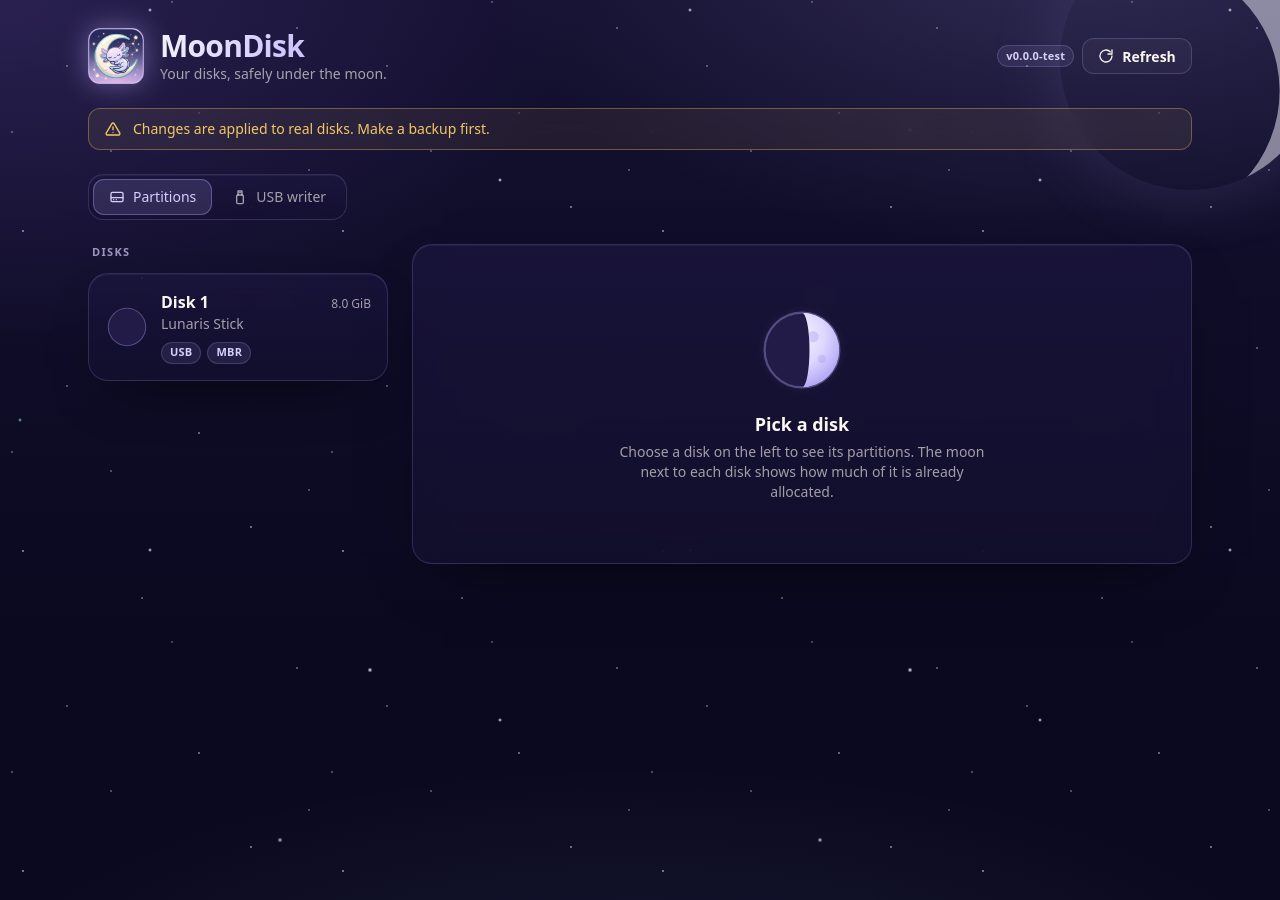
App › does not offer drives smaller than the image
The width and height of the screenshot is (1280, 900).
Expected: the text "Changes are applied to real disks. Make a backup first." is shown, [133,119,490,138]
Click the tab "USB writer": [279, 197] box [216,179,342,215]
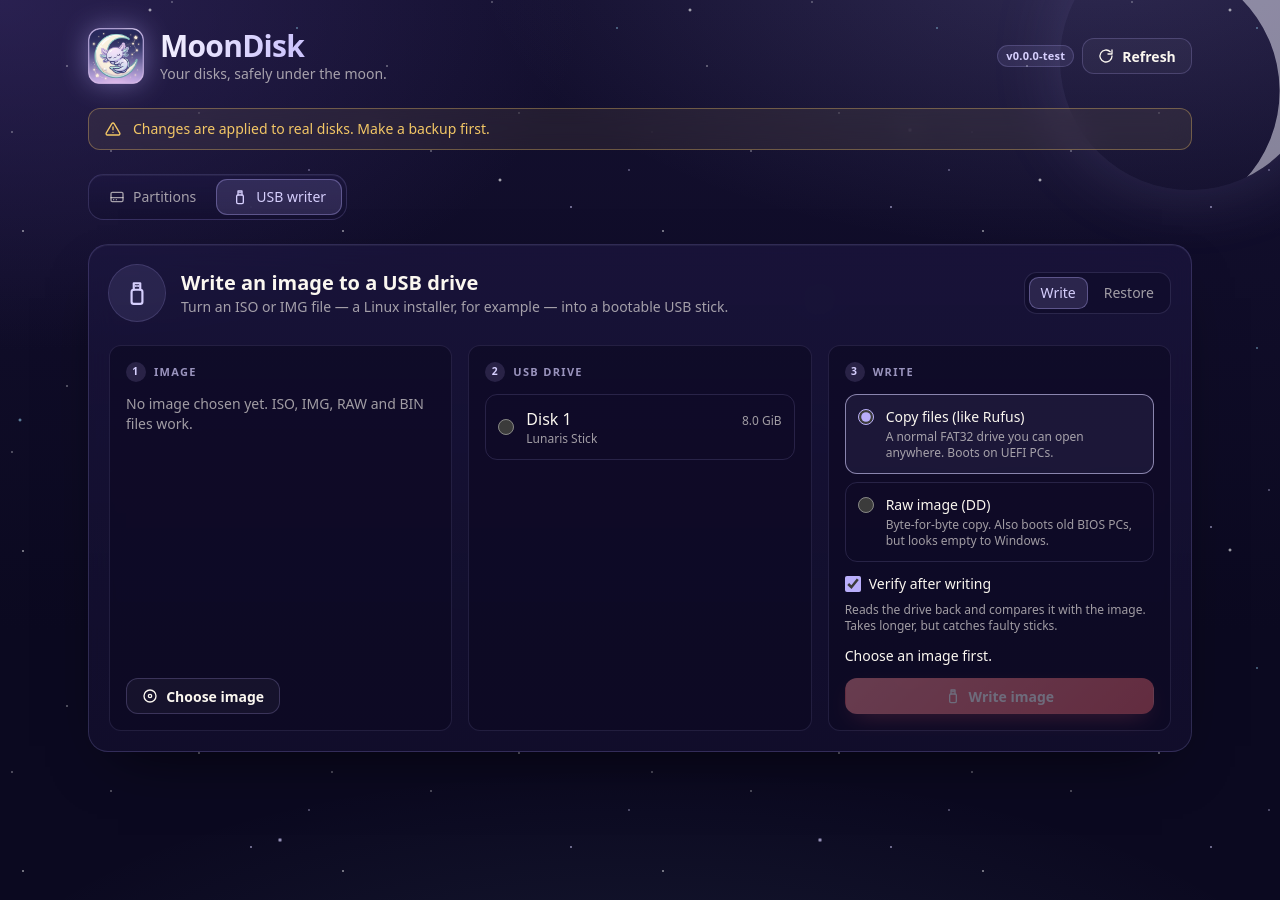
Click the button "Choose image": [203, 696] box [126,678,280,714]
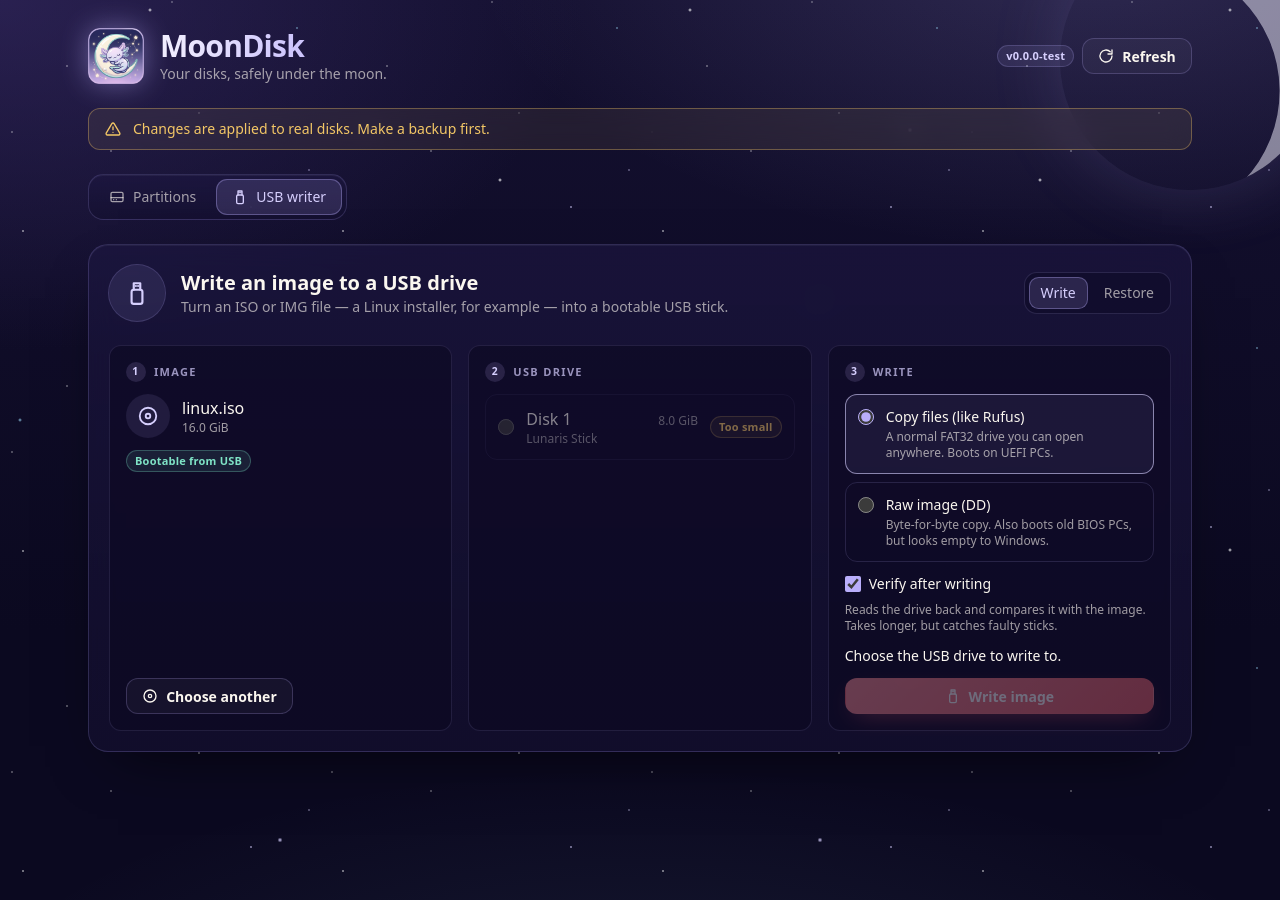
Result: the text "Too small" is shown at [710,416,782,438]
Result: the radio button labelled "Disk 1 8.0 GiB Lunaris Stick Too small" is disabled at [498,419,514,435]
